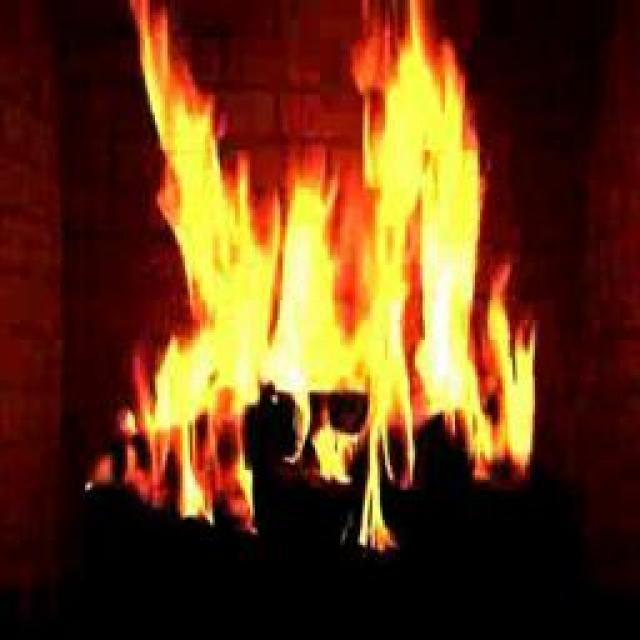Fire: (150, 90, 497, 480)
